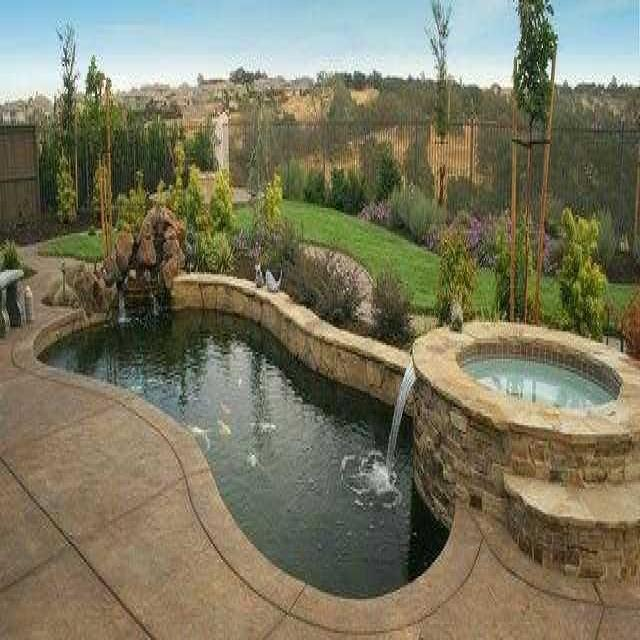Ponds: (13, 271, 487, 640)
